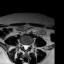CCS_normal: (24, 42, 26, 52)
LFS_normal: (28, 42, 30, 49)
LLS_normal: (26, 42, 28, 50)
RFS_normal: (20, 41, 23, 50)
RLS_normal: (23, 42, 24, 50)
